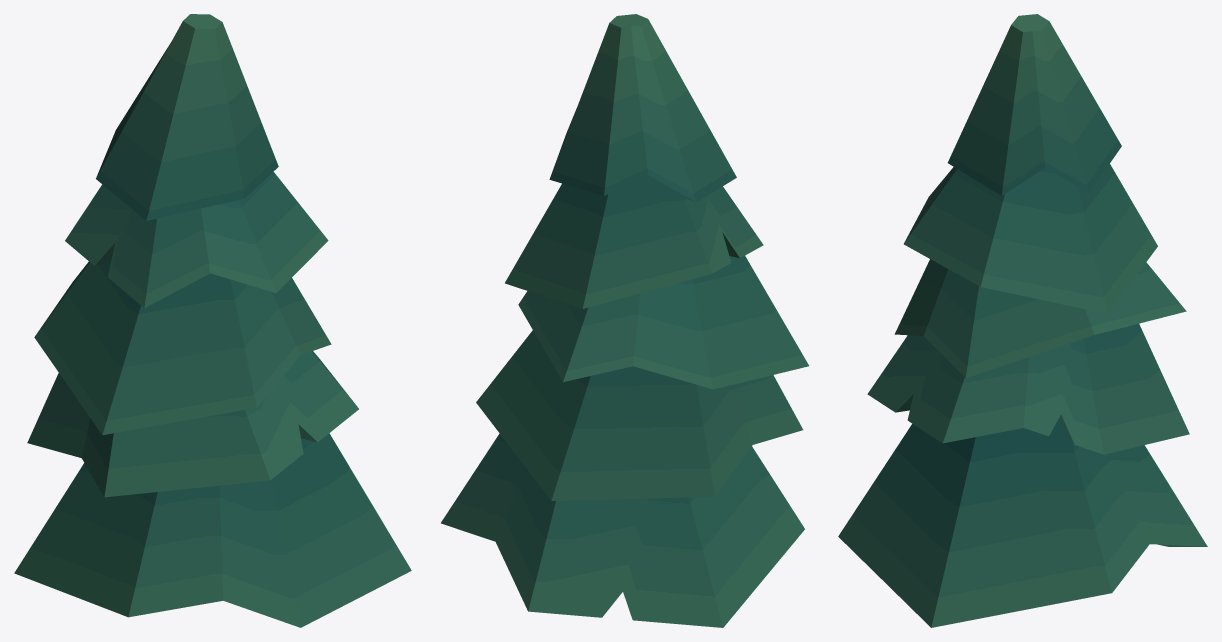
The model's file is Leaves2.glb.
3 renders of one model, left to right at view 1: azimuth 30°, elevation 25°; view 2: azimuth 150°, elevation 25°; view 3: azimuth 270°, elevation 25°, orthographic. The views are drawn at different scales.
Visible parts, largest first — view 1: Cylinder.001, Cylinder.003, Cylinder.005, Cylinder.002, Cylinder.004; view 2: Cylinder.001, Cylinder.002, Cylinder.003, Cylinder.004, Cylinder.005; view 3: Cylinder.001, Cylinder.002, Cylinder.004, Cylinder.005, Cylinder.003.
Part boxes in pixels (<box>): Cylinder.001: <box>14,433,411,627</box>; Cylinder.003: <box>34,259,331,435</box>; Cylinder.005: <box>96,14,278,220</box>; Cylinder.002: <box>27,351,358,497</box>; Cylinder.004: <box>65,172,328,308</box>; Cylinder.001: <box>441,433,804,627</box>; Cylinder.002: <box>476,330,803,500</box>; Cylinder.003: <box>518,256,808,389</box>; Cylinder.004: <box>505,175,763,308</box>; Cylinder.005: <box>549,14,736,202</box>; Cylinder.001: <box>838,417,1207,627</box>; Cylinder.002: <box>867,323,1189,454</box>; Cylinder.004: <box>904,164,1157,313</box>; Cylinder.005: <box>947,14,1121,195</box>; Cylinder.003: <box>894,259,1186,377</box>.
Bounding box in the file's own units: 3.48 × 6.11 × 3.84.
1 material, 1 textured.
